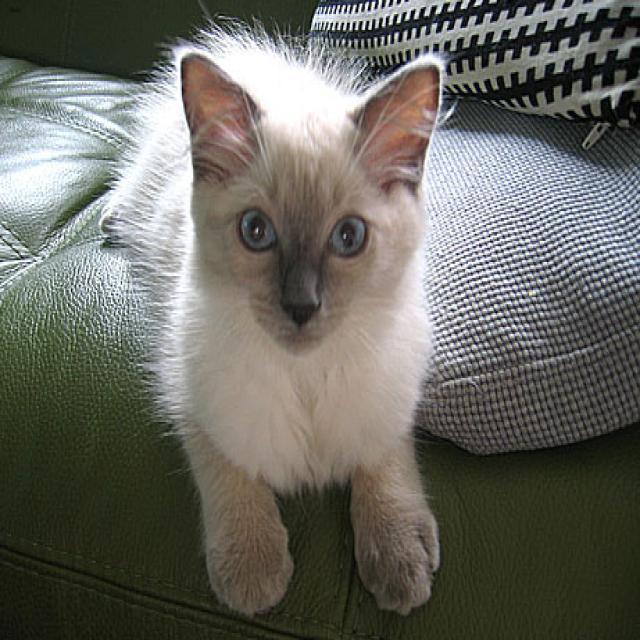Ragdoll: (169, 34, 443, 365)
